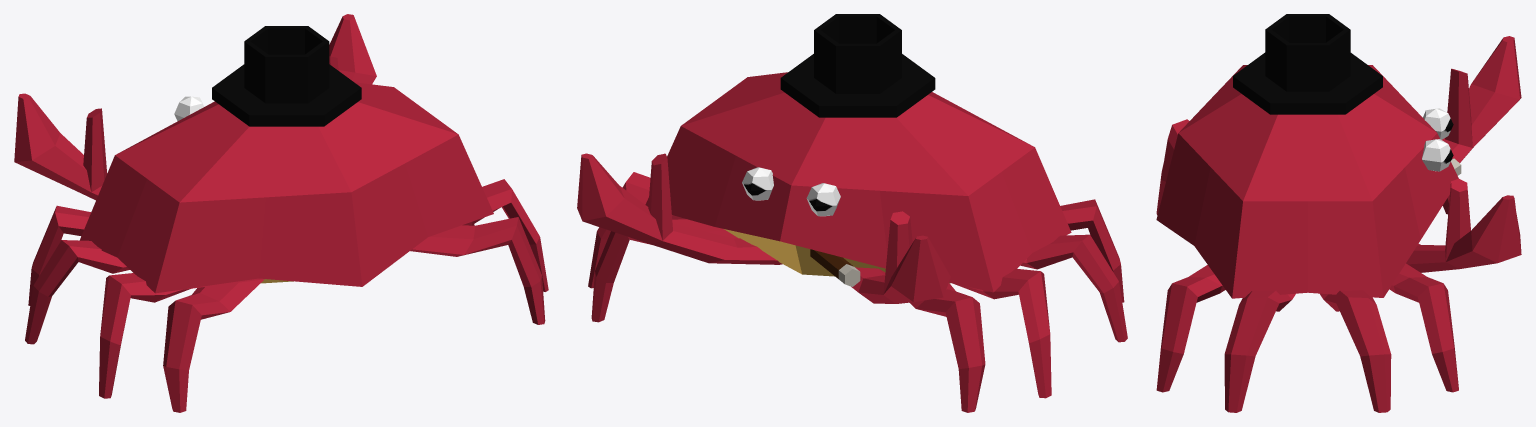
The model's file is Crab_Boss_Op.fbx.
3 views of the same model, side by side, from view 1: azimuth 30°, elevation 25°; view 2: azimuth 150°, elevation 25°; view 3: azimuth 270°, elevation 25° (orthographic). The views are drawn at different scales.
Visible parts, largest first — view 1: Shell, Hat, Hand1.001, Leg2-4, Lef1-4, Leg2-3, Leg2-2, Hand1, Leg2-1, Lef1-3; view 2: Shell, Hat, Hand1, Hand1.001, Leg2-1, Leg2-2, Leg2-3, Leg1-1, Leg2-4, Leg1-2, Tabaco, Eye2 (+1 smaller); view 3: Shell, Hat, Hand1, Hand1.001, Lef1-3, Leg1-2, Leg1-1, Lef1-4, Eye1, Leg2-4, Eye2.
Boxes of the visible parts, bbox=[...] form: Shell: bbox=[79, 82, 493, 293]; Hat: bbox=[212, 26, 361, 126]; Hand1.001: bbox=[14, 93, 107, 200]; Leg2-4: bbox=[163, 279, 263, 412]; Lef1-4: bbox=[410, 217, 545, 324]; Leg2-3: bbox=[99, 273, 190, 398]; Leg2-2: bbox=[25, 240, 129, 344]; Hand1: bbox=[329, 14, 376, 84]; Leg2-1: bbox=[28, 205, 90, 305]; Lef1-3: bbox=[462, 179, 548, 291]; Shell: bbox=[645, 72, 1071, 292]; Hat: bbox=[780, 14, 935, 117]; Hand1: bbox=[577, 153, 782, 264]; Hand1.001: bbox=[851, 211, 950, 303]; Leg2-1: bbox=[909, 283, 985, 412]; Leg2-2: bbox=[953, 268, 1051, 398]; Leg2-3: bbox=[1020, 234, 1127, 342]; Leg1-1: bbox=[591, 219, 737, 322]; Leg2-4: bbox=[1060, 199, 1124, 302]; Leg1-2: bbox=[588, 172, 686, 288]; Tabaco: bbox=[810, 249, 860, 286]; Eye2: bbox=[806, 183, 840, 216]; Shell: bbox=[1156, 65, 1458, 298]; Hat: bbox=[1233, 14, 1382, 114]; Hand1: bbox=[1406, 178, 1521, 272]; Hand1.001: bbox=[1443, 36, 1521, 162]; Lef1-3: bbox=[1224, 290, 1295, 412]; Leg1-2: bbox=[1320, 290, 1391, 412]; Leg1-1: bbox=[1389, 263, 1458, 392]; Lef1-4: bbox=[1156, 265, 1225, 392]; Eye1: bbox=[1422, 139, 1453, 171]; Leg2-4: bbox=[1156, 119, 1189, 215]; Eye2: bbox=[1423, 108, 1453, 139].
Bounding box in the file's own units: 2.78 × 1.63 × 1.96.
Materials: 7 (7 with a texture image).
